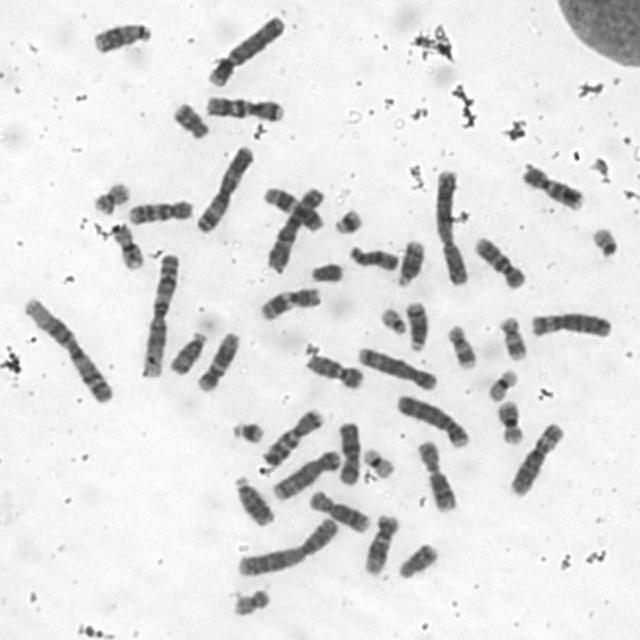A1: (19, 299, 116, 405), (137, 253, 183, 381)
A2: (237, 514, 343, 582), (431, 168, 472, 288)
A3: (193, 145, 256, 234), (262, 185, 324, 275)
B4: (208, 12, 284, 89), (391, 394, 472, 449)
B5: (268, 448, 345, 502), (355, 344, 438, 392)
C10: (303, 352, 366, 392), (126, 197, 194, 227)
C11: (261, 181, 326, 233), (256, 285, 323, 321)
C12: (194, 328, 240, 395), (362, 513, 403, 577)
C6: (506, 421, 566, 497), (528, 309, 615, 340)
C7: (256, 404, 328, 471), (199, 93, 287, 122)
C8: (306, 489, 373, 535), (336, 420, 362, 486)
C9: (473, 236, 528, 292), (521, 164, 585, 212)
D13: (86, 17, 155, 54), (230, 474, 277, 528)
D14: (392, 238, 426, 290), (404, 298, 429, 354)
D15: (168, 331, 207, 379), (346, 244, 400, 272)
E16: (108, 222, 146, 272), (495, 398, 525, 446)
E17: (444, 322, 480, 372), (496, 313, 529, 362)
E18: (170, 99, 212, 141)
F19: (483, 367, 520, 403), (360, 446, 396, 478)
F20: (229, 587, 276, 618), (90, 180, 132, 214)
G21: (226, 418, 267, 446), (329, 206, 364, 236)
G22: (588, 224, 620, 262), (376, 306, 407, 337)
X: (412, 438, 459, 514)
Y: (394, 541, 441, 581), (308, 262, 345, 286)
